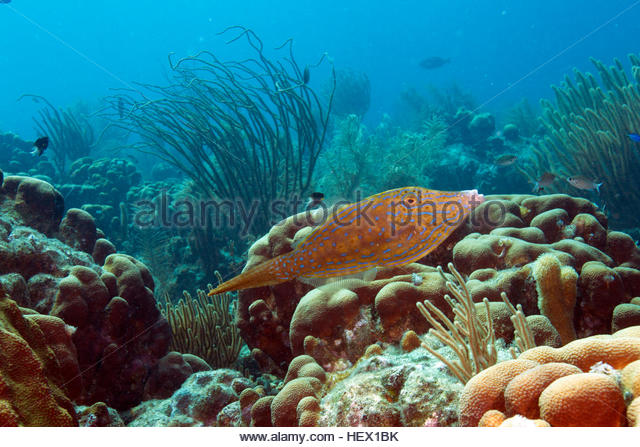Aluterus_scriptus: (201, 181, 489, 303)
